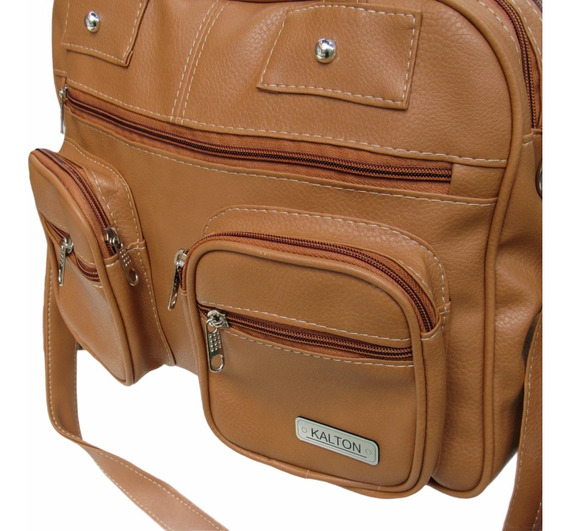cartera: (26, 1, 548, 502)
